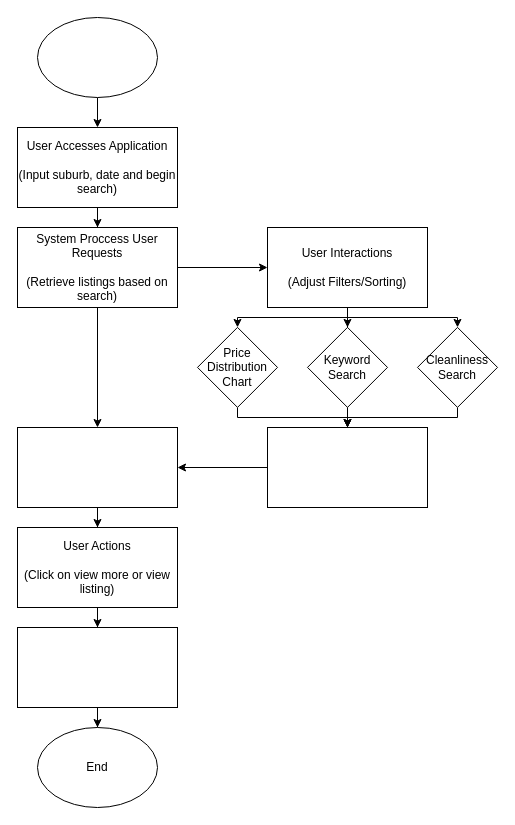
This 515x825 diagram has some shape labels left out. The shapes that lost their labels are listed below. From the top down, each one's centre as x and y in pixels, then its label:
the point at 97,57: Start
the point at 97,467: Display Results (Show listing matching user input)
the point at 347,467: Perform Chosen Action
the point at 97,667: Additional Information (Open listing url in browser)
